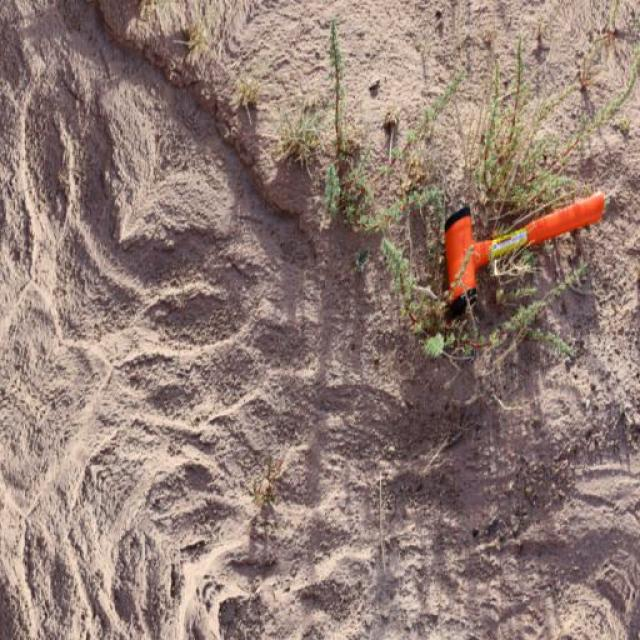mallet: (441, 188, 611, 318)
